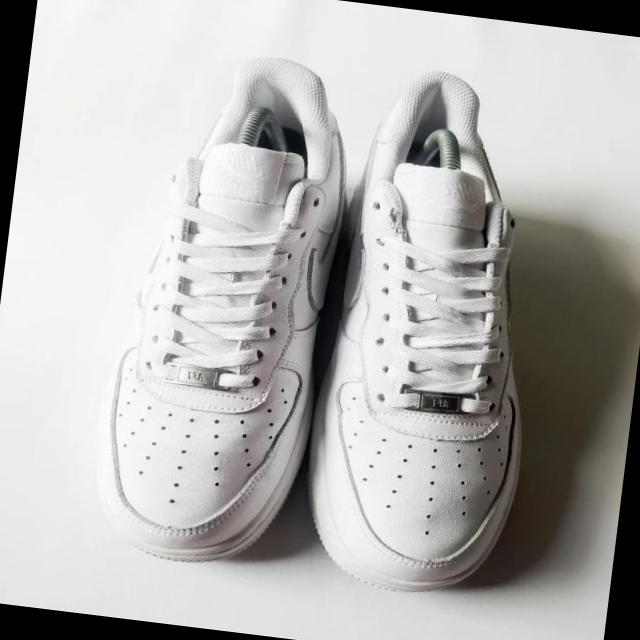nike_fake_airforce: (81, 29, 363, 574), (302, 59, 574, 600)
